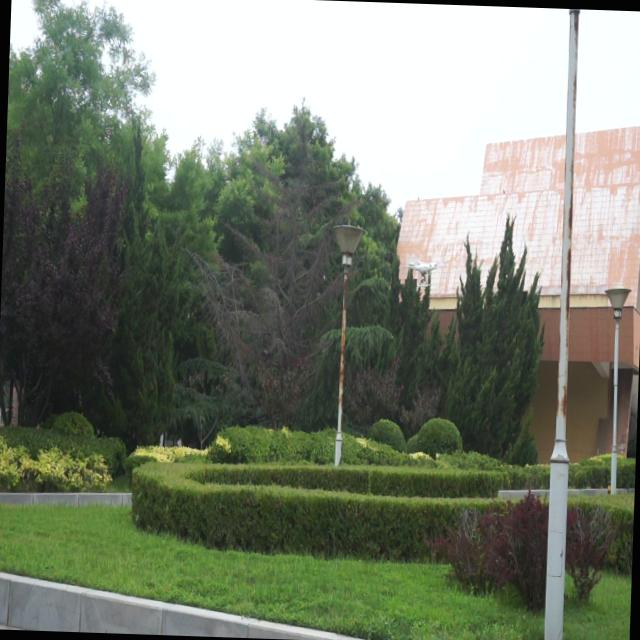drone: (405, 250, 444, 288)
